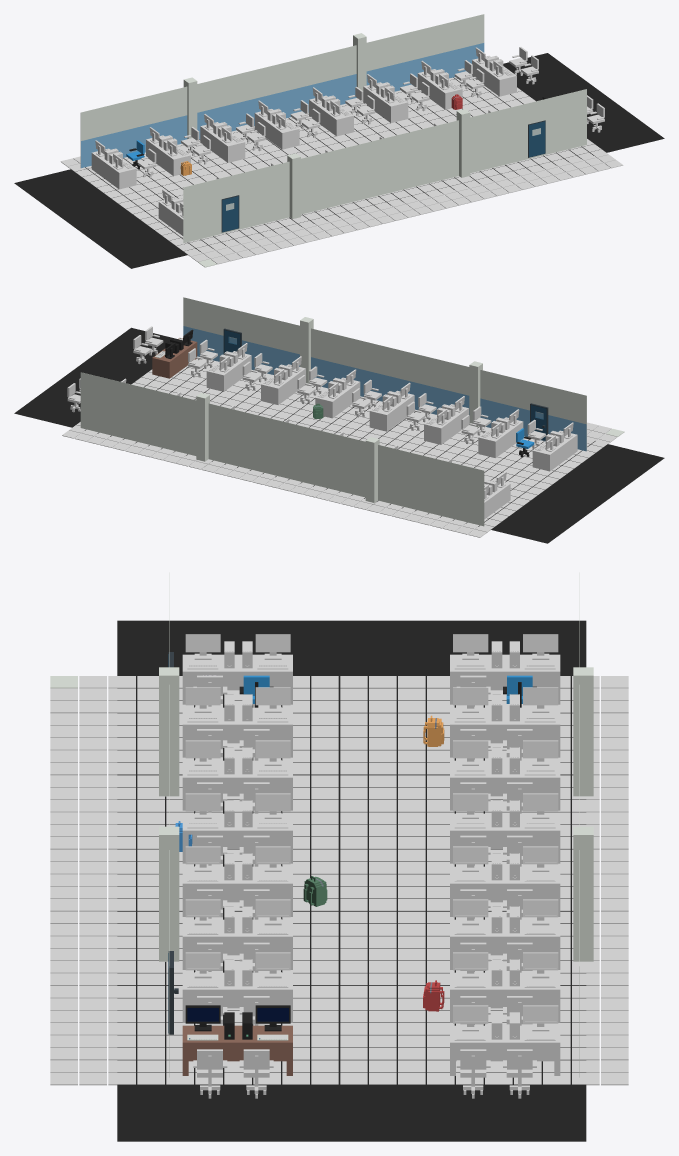
Rendered from Stage4.fbx.
3 renders of one model, top to bottom at view 1: azimuth 30°, elevation 25°; view 2: azimuth 150°, elevation 25°; view 3: azimuth 270°, elevation 25°, orthographic. The views are drawn at different scales.
Visible parts, largest first — view 1: Cube_2_10, Cube_4_2_2, Plane, Cube_instance_45, Cube_instance_39, Cube_instance_41, Cube_instance_35, Cube_instance_37, Cube_instance_31, Cube_21_2, 기둥1, Cube_instance_43 (+6 smaller); view 2: Cube_4_2_2, Cube_2_10, Plane, Cube_instance_44, Cube_12_2, Cube_instance_38, Cube_instance_42, Cube_instance_40, Cube_instance_32, Cube_3_5_3, Cube_instance_34, Cube_11_2_2 (+4 smaller); view 3: Plane, Cube_12_2, Cube_21_2, Cube_11_2_2, 기둥1, Cube_3_5_3, Cube_instance_31, Cube_instance_32, Cube_instance_34, Cube_instance_36, Cube_instance_38, Cube_instance_40 (+17 smaller).
Part boxes in pixels (x1,y1,x2,y2): Cube_2_10: [183, 89, 586, 243]; Cube_4_2_2: [80, 14, 484, 168]; Plane: [14, 53, 664, 268]; Cube_instance_45: [91, 148, 136, 189]; Cube_instance_39: [254, 109, 299, 149]; Cube_instance_41: [200, 122, 245, 162]; Cube_instance_35: [363, 82, 408, 122]; Cube_instance_37: [309, 95, 353, 136]; Cube_instance_31: [472, 55, 516, 96]; Cube_21_2: [456, 109, 470, 177]; 기둥1: [287, 153, 300, 219]; Cube_instance_43: [146, 135, 190, 176]; Cube_4_2_2: [80, 372, 484, 526]; Cube_2_10: [183, 297, 586, 451]; Plane: [14, 327, 664, 543]; Cube_instance_44: [532, 430, 577, 471]; Cube_12_2: [196, 392, 209, 466]; Cube_instance_38: [369, 390, 414, 431]; Cube_instance_42: [478, 417, 523, 457]; Cube_instance_40: [424, 404, 468, 444]; Cube_instance_32: [206, 351, 251, 391]; Cube_3_5_3: [152, 338, 197, 378]; Cube_instance_34: [261, 364, 305, 404]; Cube_11_2_2: [365, 437, 379, 504]; Plane: [117, 620, 586, 1141]; Cube_12_2: [573, 826, 593, 961]; Cube_21_2: [159, 826, 179, 961]; Cube_11_2_2: [573, 667, 593, 796]; 기둥1: [159, 667, 179, 796]; Cube_3_5_3: [182, 1025, 292, 1075]; Cube_instance_31: [450, 1025, 560, 1075]; Cube_instance_32: [182, 972, 292, 1022]; Cube_instance_34: [182, 919, 292, 969]; Cube_instance_36: [182, 866, 292, 916]; Cube_instance_38: [182, 813, 292, 863]; Cube_instance_40: [182, 760, 292, 810].
Size of the model in its own units: 10677 by 1322 by 5008.
